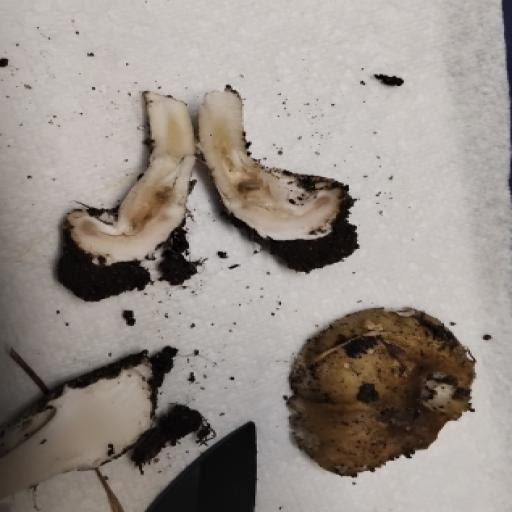Death Cap: (43, 59, 357, 306), (262, 272, 496, 496)
